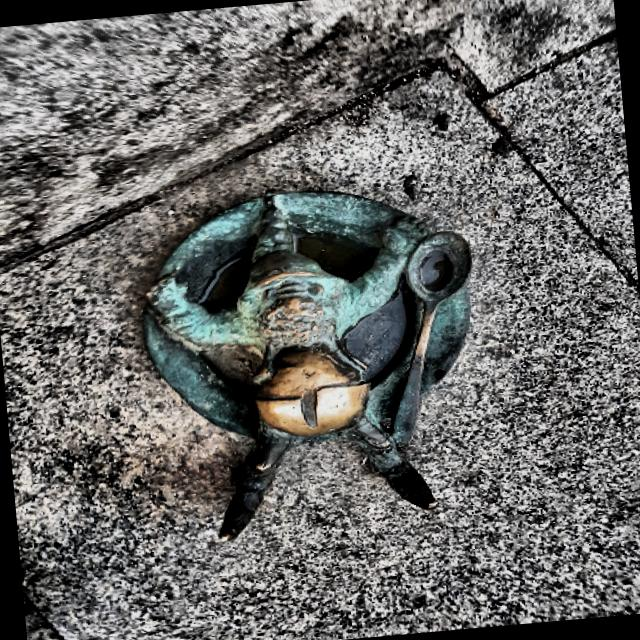Obiezysmak: (141, 190, 472, 542)
